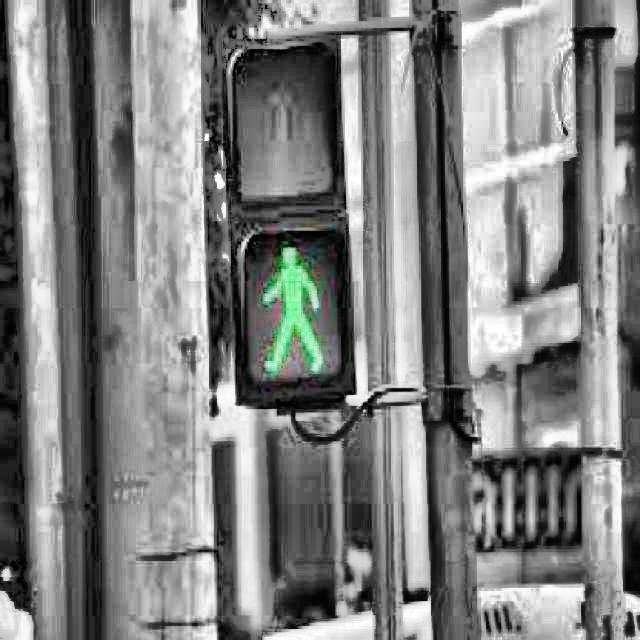semaforo pedestre: (142, 15, 475, 473)
